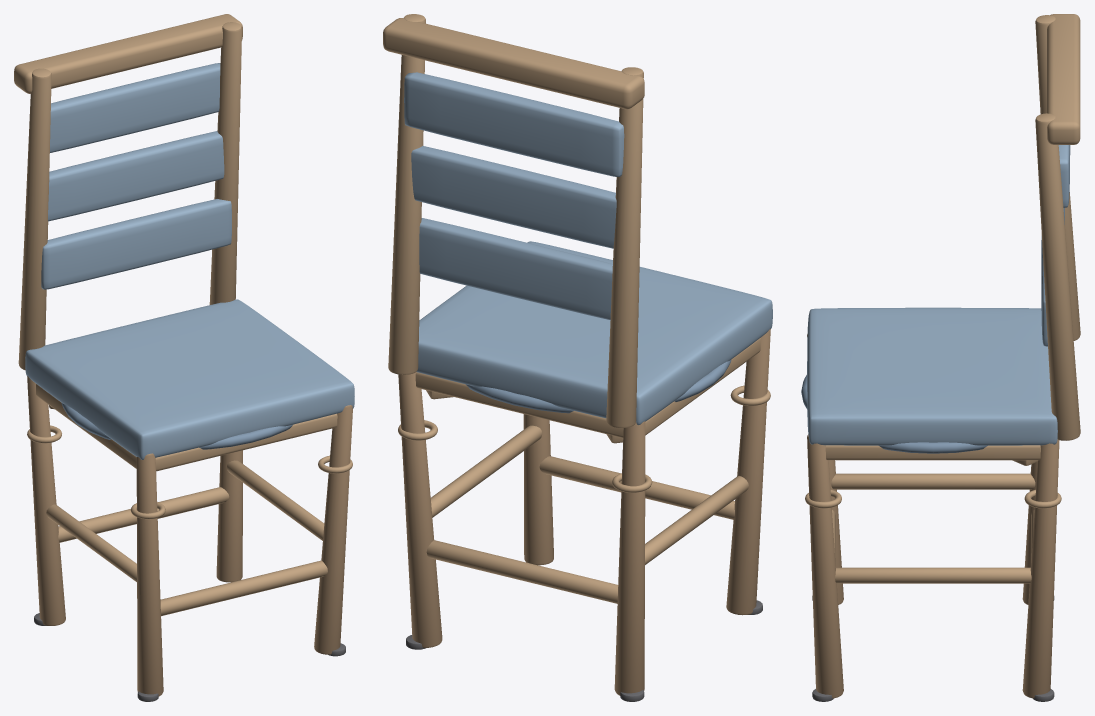
Rendered from chair.glb.
3 views of the same model, side by side, from view 1: azimuth 30°, elevation 25°; view 2: azimuth 150°, elevation 25°; view 3: azimuth 270°, elevation 25° (orthographic). The views are drawn at different scales.
Visible parts, largest first — view 1: Chair_SeatPan, Chair_BackSlat_0, Chair_BackSlat_1, Chair_BackSlat_2, Chair_BackrestCap, Chair_BackPost_-0.17, Chair_Leg_0.17_-0.17, Chair_Leg_-0.17_-0.17, Chair_BackPost_0.17, Chair_Leg_-0.17_0.17, Chair_SeatApron, Chair_StretcherX_-0.16 (+5 smaller); view 2: Chair_SeatPan, Chair_BackSlat_2, Chair_BackSlat_1, Chair_BackSlat_0, Chair_BackrestCap, Chair_BackPost_-0.17, Chair_BackPost_0.17, Chair_Leg_-0.17_0.17, Chair_Leg_0.17_0.17, Chair_Leg_-0.17_-0.17, Chair_StretcherX_0.16, Chair_Leg_0.17_-0.17 (+5 smaller); view 3: Chair_SeatPan, Chair_BackPost_0.17, Chair_Leg_0.17_-0.17, Chair_Leg_0.17_0.17, Chair_BackrestCap, Chair_StretcherY_-0.17, Chair_StretcherY_0.17, Chair_SeatApron, Chair_BackPost_-0.17, Chair_SeatWelt, Chair_Leg_-0.17_-0.17, Chair_Leg_-0.17_0.17 (+2 smaller).
Part boxes in pixels (<box>): Chair_SeatPan: <box>25,299,354,459</box>; Chair_BackSlat_0: <box>41,199,231,289</box>; Chair_BackSlat_1: <box>48,131,224,221</box>; Chair_BackSlat_2: <box>50,63,220,152</box>; Chair_BackrestCap: <box>14,14,242,93</box>; Chair_BackPost_-0.17: <box>18,68,51,370</box>; Chair_Leg_0.17_-0.17: <box>314,405,352,654</box>; Chair_Leg_-0.17_-0.17: <box>136,453,163,696</box>; Chair_BackPost_0.17: <box>209,22,241,304</box>; Chair_Leg_-0.17_0.17: <box>27,376,65,625</box>; Chair_SeatApron: <box>36,384,337,471</box>; Chair_StretcherX_-0.16: <box>160,560,327,616</box>; Chair_SeatPan: <box>416,241,772,425</box>; Chair_BackSlat_2: <box>404,72,624,176</box>; Chair_BackSlat_1: <box>411,146,616,248</box>; Chair_BackSlat_0: <box>419,218,612,320</box>; Chair_BackrestCap: <box>383,18,644,109</box>; Chair_BackPost_-0.17: <box>606,67,643,427</box>; Chair_BackPost_0.17: <box>388,14,425,374</box>; Chair_Leg_-0.17_0.17: <box>614,421,645,695</box>; Chair_Leg_0.17_0.17: <box>398,372,442,647</box>; Chair_Leg_-0.17_-0.17: <box>726,329,770,615</box>; Chair_StretcherX_0.16: <box>426,540,618,603</box>; Chair_Leg_0.17_-0.17: <box>523,414,553,565</box>; Chair_SeatPan: <box>807,307,1057,445</box>; Chair_BackPost_0.17: <box>1035,113,1080,440</box>; Chair_Leg_0.17_-0.17: <box>807,434,843,698</box>; Chair_Leg_0.17_0.17: <box>1022,439,1059,698</box>; Chair_BackrestCap: <box>1047,14,1080,144</box>; Chair_StretcherY_-0.17: <box>831,473,1035,489</box>; Chair_StretcherY_0.17: <box>835,567,1031,583</box>; Chair_SeatApron: <box>825,445,1040,460</box>; Chair_BackPost_-0.17: <box>1035,15,1080,340</box>; Chair_SeatWelt: <box>801,375,987,453</box>; Chair_Leg_-0.17_-0.17: <box>807,334,843,604</box>; Chair_Leg_-0.17_0.17: <box>1022,461,1037,604</box>.
Bounding box in the file's own units: 0.418 × 0.9652 × 0.4201.
